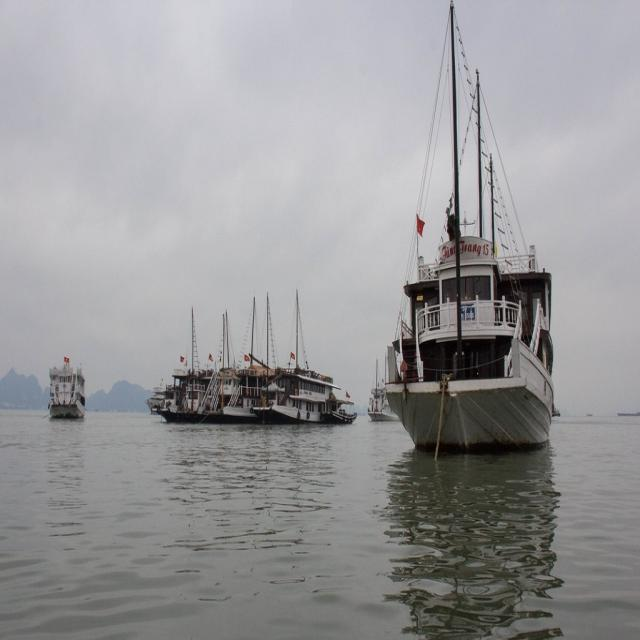boat: (382, 233, 552, 449), (246, 354, 333, 428), (39, 352, 95, 428), (321, 397, 361, 428)
